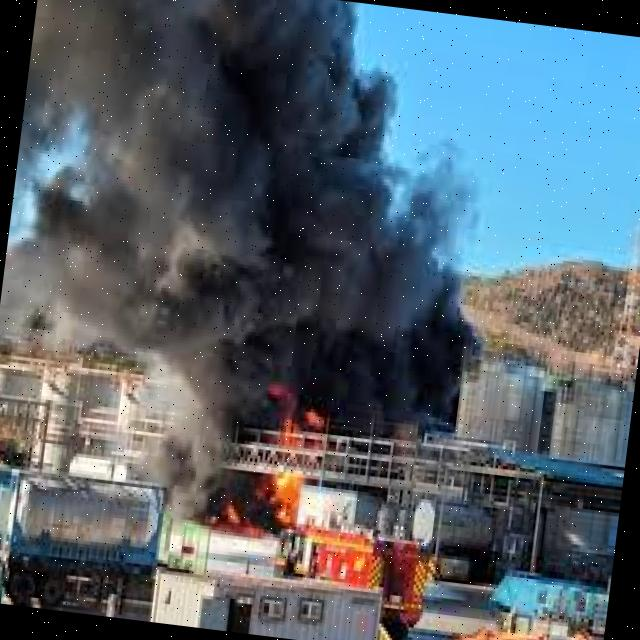explosion: (0, 0, 540, 493)
